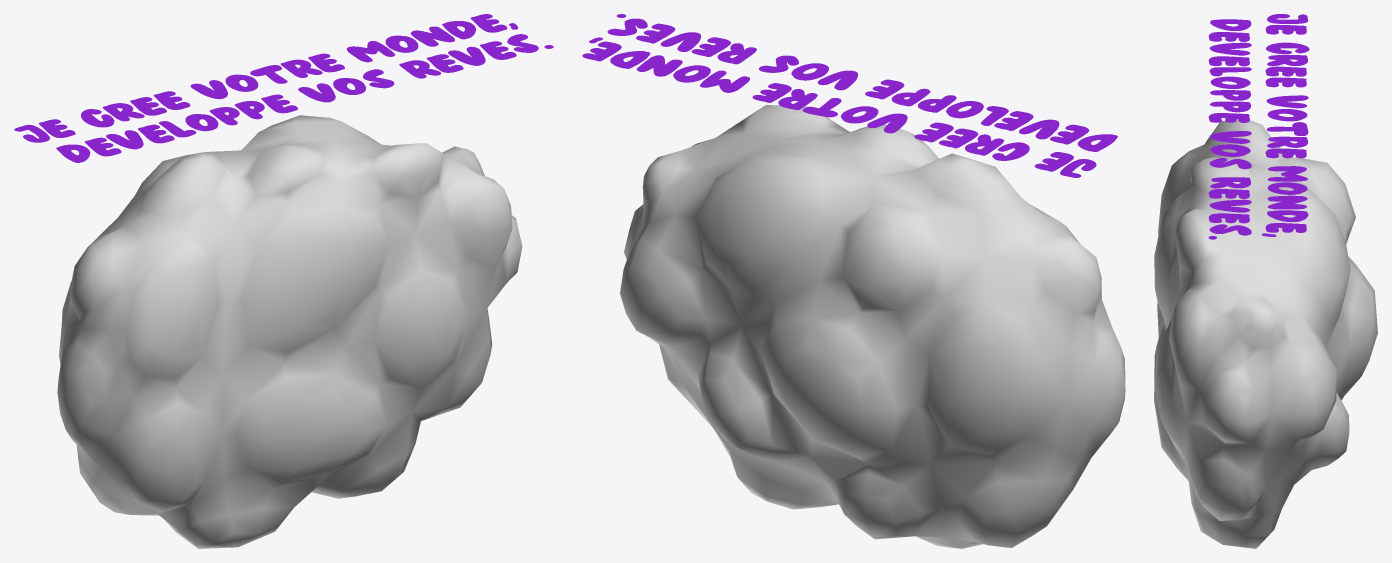
Rendered from Nuage+Text.glb.
The picture shows the model from 3 angles, left to right: view 1: azimuth 30°, elevation 25°; view 2: azimuth 150°, elevation 25°; view 3: azimuth 270°, elevation 25°; orthographic projection. The views are drawn at different scales.
Parts seen in each view (by area): view 1: Object_3 2, Texte; view 2: Object_3 2, Texte; view 3: Object_3 2, Texte.
Part boxes in pixels (x1,y1,x2,y2): Object_3 2: [57, 115, 522, 548]; Texte: [14, 14, 553, 162]; Object_3 2: [620, 105, 1125, 548]; Texte: [582, 14, 1117, 177]; Object_3 2: [1154, 119, 1377, 548]; Texte: [1208, 14, 1309, 239].
Size of the model in its own units: 19.43 by 16.04 by 8.15.
